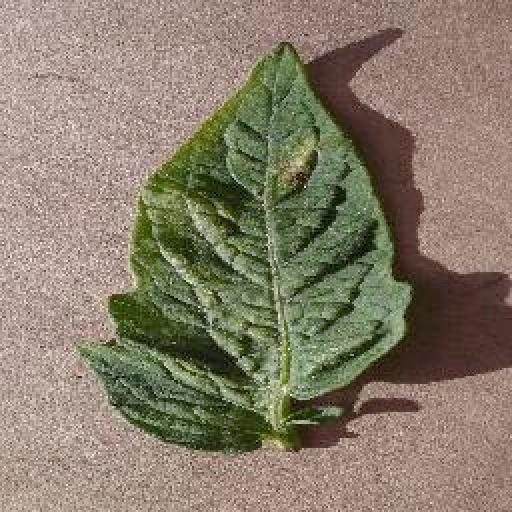disease_tomato: (82, 41, 412, 455)
